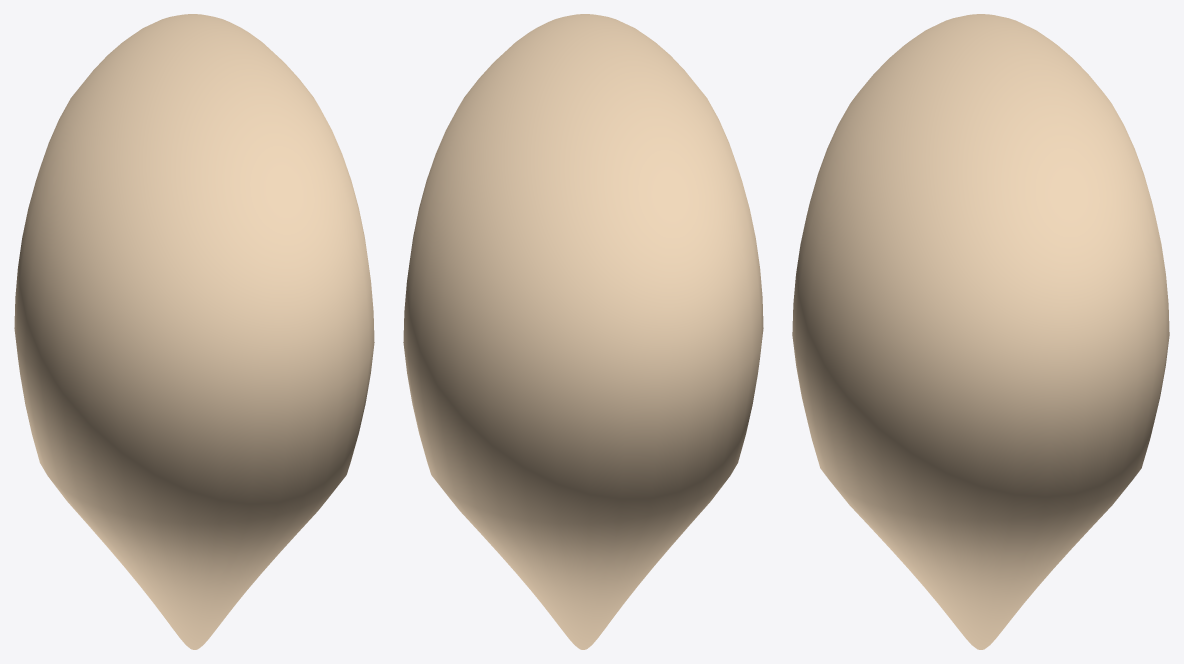
The model's file is oblong.glb.
The picture shows the model from 3 angles, left to right: view 1: azimuth 30°, elevation 25°; view 2: azimuth 150°, elevation 25°; view 3: azimuth 270°, elevation 25°; orthographic projection.
Parts seen in each view (by area): view 1: Head_oblong; view 2: Head_oblong; view 3: Head_oblong.
Part boxes in pixels (left/top/right/bottom): Head_oblong: left=14, top=14, right=374, bottom=649; Head_oblong: left=403, top=14, right=763, bottom=649; Head_oblong: left=792, top=14, right=1169, bottom=649.
Size of the model in its own units: 1.28 by 2.5 by 1.36.
